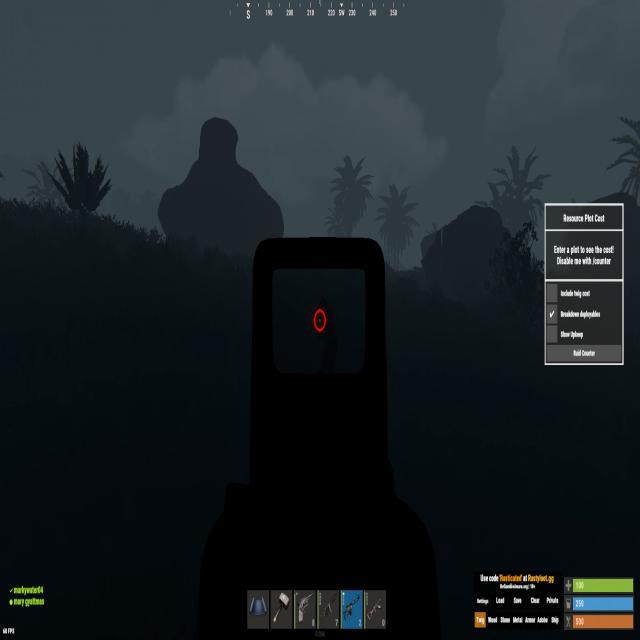Player: (313, 290, 339, 373)
